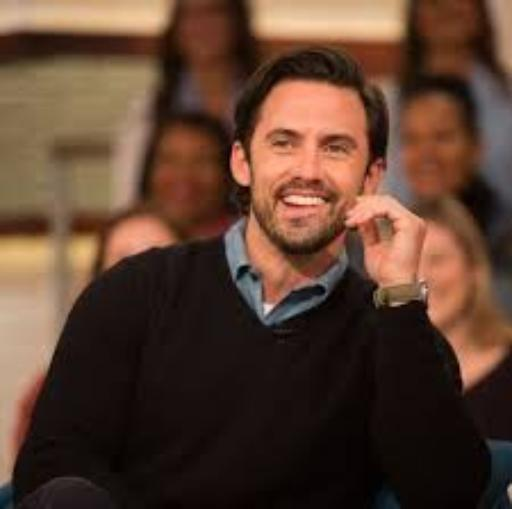left_eye: (324, 146, 353, 159)
left_lip_corner: (321, 195, 336, 208)
right_eye: (270, 139, 297, 152)
right_lip_corner: (276, 193, 290, 208)
